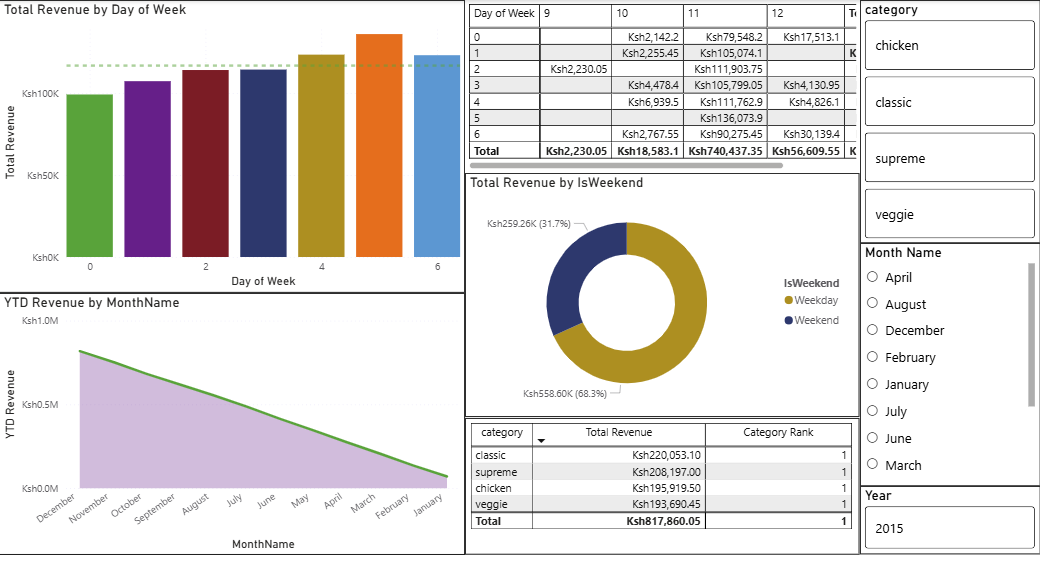

Layout of this report page (visuals, bound fields, positions):
{"tool":"powerbi","page":{"name":"Page 3","canvas":[1280,720],"ordinal":2},"visuals":[{"type":"actionButton","box":[0,0,100,40],"z":0},{"type":"areaChart","fields":{"Category":["Dim_Date.MonthName"],"Y":["Fact_Sales.YTD Revenue"]},"box":[0,360,573.3,322],"z":1000},{"type":"clusteredColumnChart","fields":{"Category":["Fact_Sales.Day of Week"],"Y":["Fact_Sales.Total Revenue"]},"box":[0,0,573.3,360],"z":2000},{"type":"pivotTable","fields":{"Rows":["Dim_Date.Day of Week"],"Columns":["Dim_Date.Hour"],"Values":["Sum(Fact_Sales.Revenue)"]},"box":[573,0,485.7,212.7],"z":3000},{"type":"tableEx","fields":{"Values":["Fact_Sales.category","Fact_Sales.Total Revenue","Fact_Sales.Category Rank"]},"box":[573.3,513.5,485,168.5],"z":4000},{"type":"donutChart","fields":{"Category":["Dim_Date.IsWeekend"],"Y":["Fact_Sales.Total Revenue"]},"box":[573.3,213.3,485,300.2],"z":5000},{"type":"advancedSlicerVisual","fields":{"Values":["Dim_Pizza.category"]},"box":[1058.3,0,221.7,299],"z":6000},{"type":"listSlicer","title":"Month Name","fields":{"Values":["Dim_Date.MonthName"]},"box":[1058.3,299,221.7,299],"z":7000},{"type":"advancedSlicerVisual","fields":{"Values":["Dim_Date.Year"]},"box":[1058.3,598,221.7,84],"z":8000}]}

Visuals, with their boxes in screenshot pixels (x1, y1, x2, y2), scaled from the page's 1280x720 canvas onto the 1040x569 screenshot:
actionButton: (0,0,81,32)
areaChart - Dim_Date.MonthName x Fact_Sales.YTD Revenue: (0,284,466,539)
clusteredColumnChart - Fact_Sales.Day of Week x Fact_Sales.Total Revenue: (0,0,466,284)
pivotTable - Dim_Date.Day of Week x Dim_Date.Hour: (466,0,860,168)
tableEx - Fact_Sales.category x Fact_Sales.Total Revenue: (466,406,860,539)
donutChart - Dim_Date.IsWeekend x Fact_Sales.Total Revenue: (466,169,860,406)
advancedSlicerVisual - Dim_Pizza.category: (860,0,1039,236)
"Month Name" listSlicer: (860,236,1039,473)
advancedSlicerVisual - Dim_Date.Year: (860,473,1039,539)
